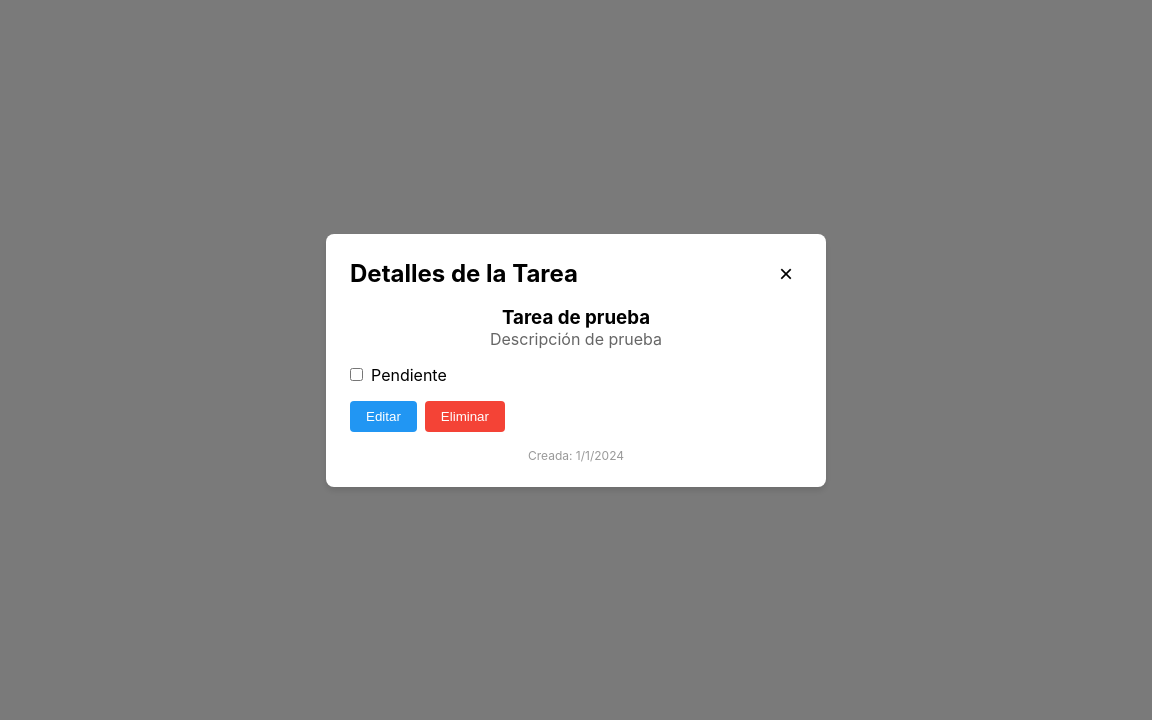
TaskDetails › debería cancelar la edición sin guardar
The image size is (1152, 720).
Click the button "Editar": (383,416) top-left (350, 400), bottom-right (417, 432)
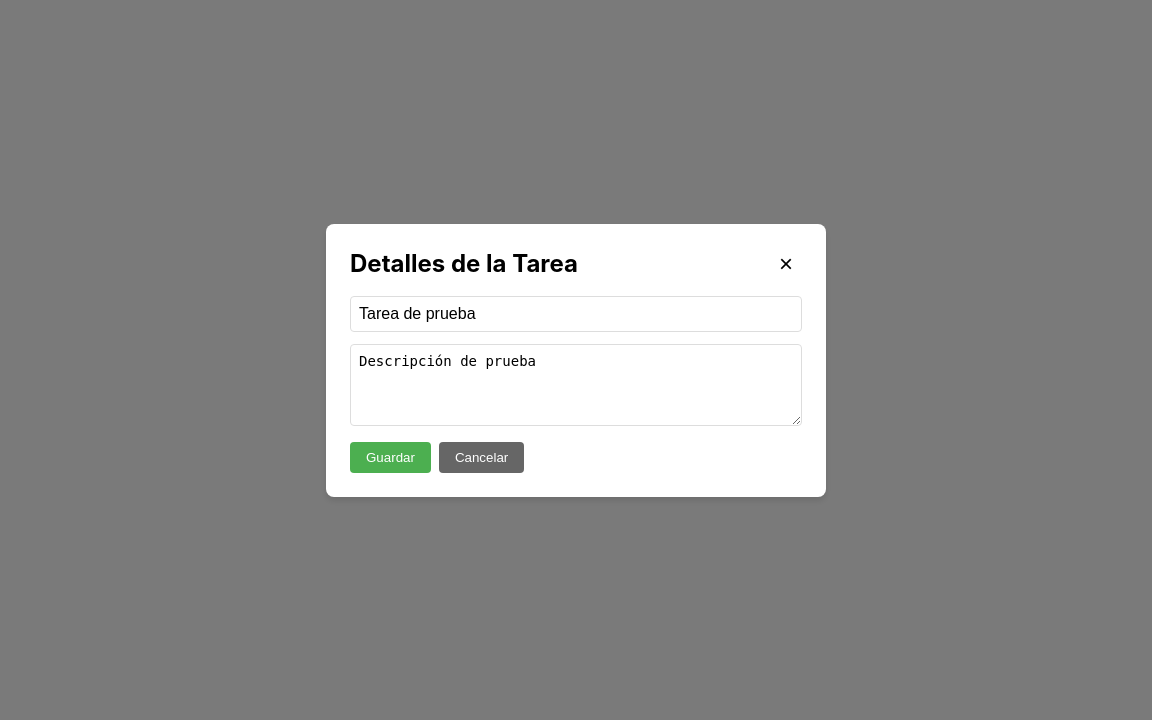
Click the button "Cancelar": (482,457) top-left (439, 442), bottom-right (524, 472)
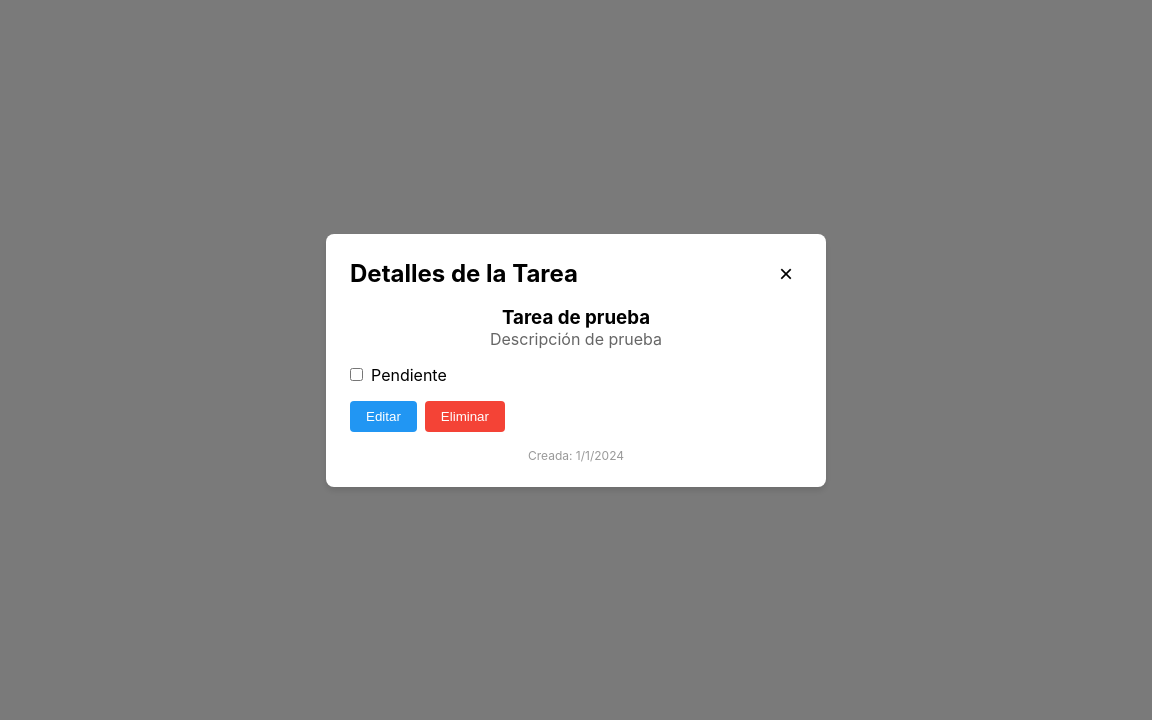
Check: the field titled "title" is gone
